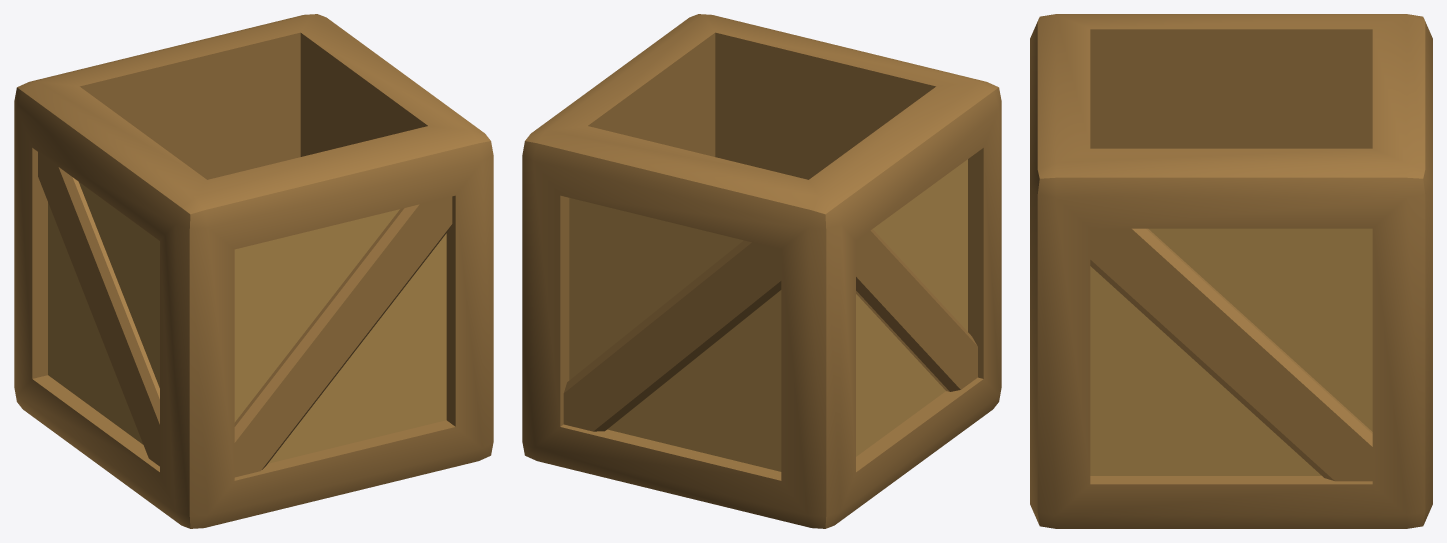
File: SM_OpenCrate.fbx
3 views of the same model, side by side, from view 1: azimuth 30°, elevation 25°; view 2: azimuth 150°, elevation 25°; view 3: azimuth 270°, elevation 25° (orthographic). The views are drawn at different scales.
Visible parts, largest first — view 1: Cube_Crate; view 2: Cube_Crate; view 3: Cube_Crate.
Boxes of the visible parts, x1,y1,x2,y2 form: Cube_Crate: (14, 14, 493, 528); Cube_Crate: (522, 14, 1001, 528); Cube_Crate: (1030, 14, 1432, 528).
Size of the model in its own units: 202 by 202 by 202.
